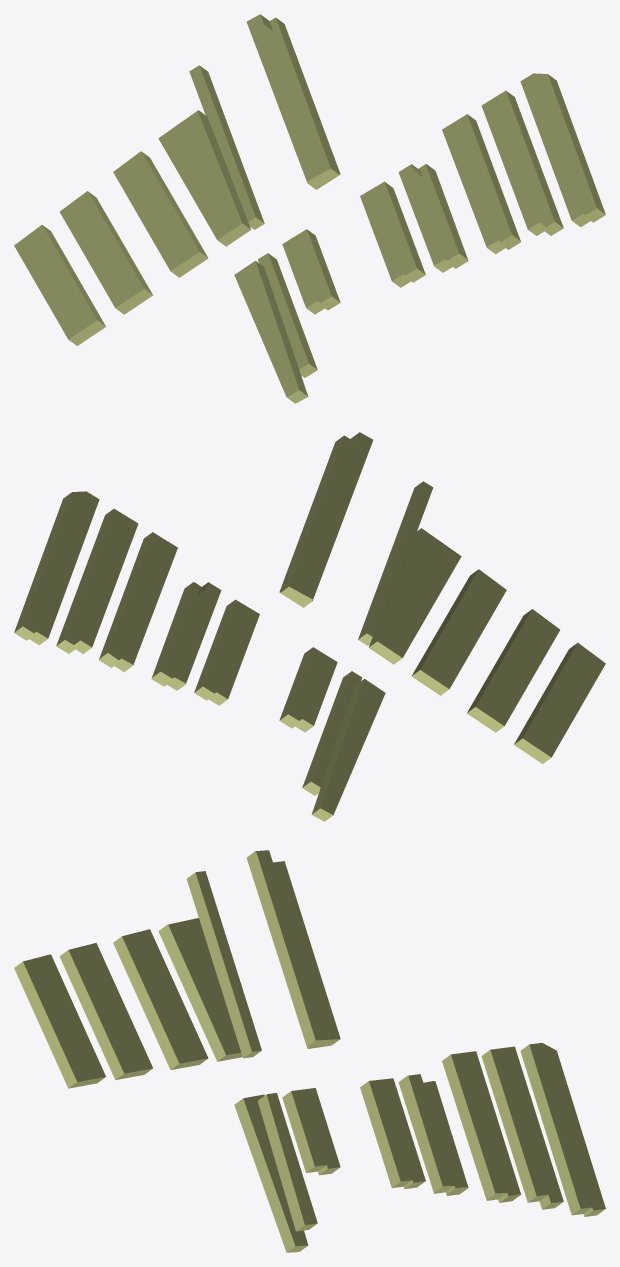
The picture shows the model from 3 angles, top to bottom: view 1: azimuth 30°, elevation 25°; view 2: azimuth 150°, elevation 25°; view 3: azimuth 330°, elevation 25°; orthographic projection.
Parts seen in each view (by area): view 1: 0_1_3_2_2_2_1; view 2: 0_1_3_2_2_2_1; view 3: 0_1_3_2_2_2_1.
Boxes of the visible parts, <box> form: 0_1_3_2_2_2_1: <box>14,14,605,403</box>; 0_1_3_2_2_2_1: <box>14,432,605,821</box>; 0_1_3_2_2_2_1: <box>14,850,605,1252</box>.
Bounding box in the file's own units: 226 × 145 × 6.91.
